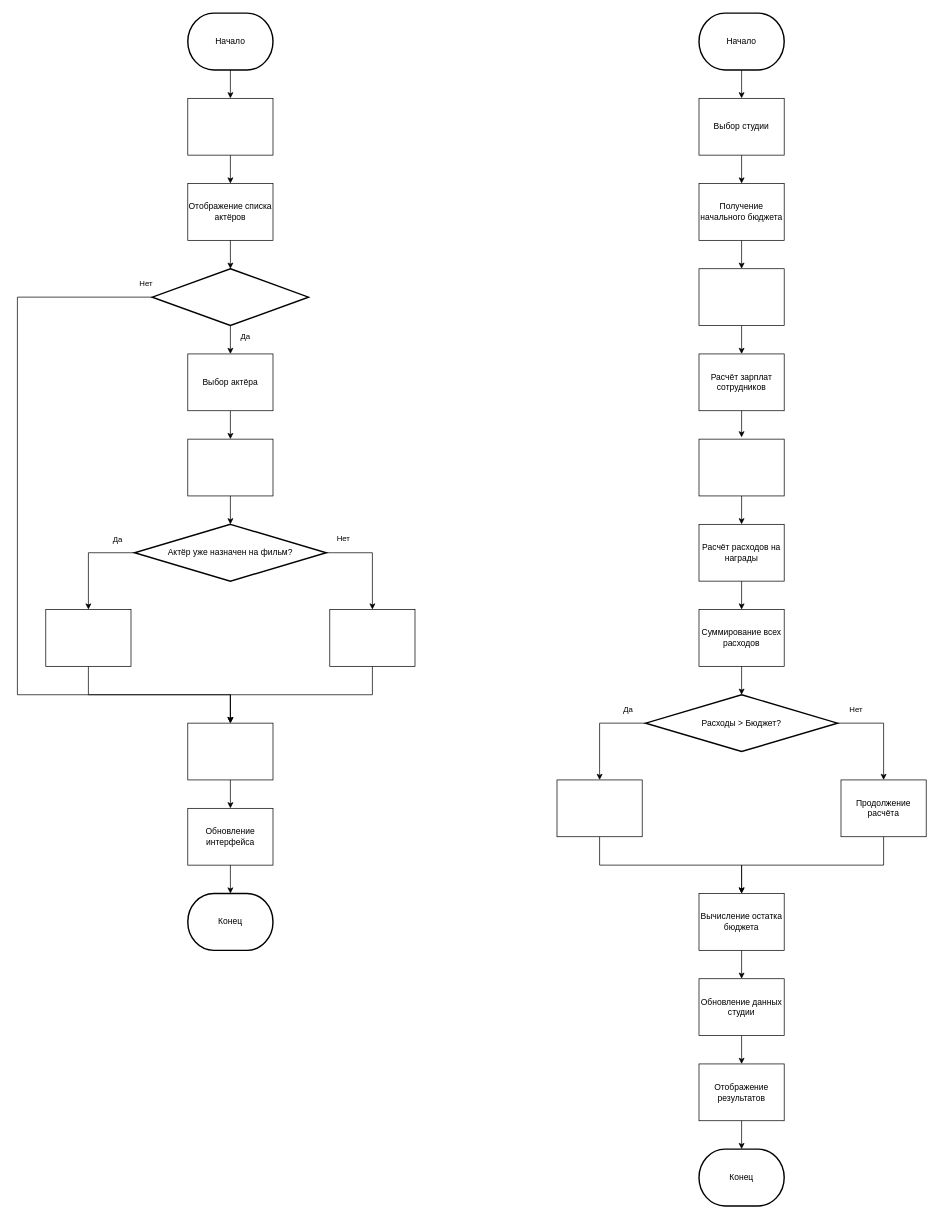
Image size: 939x1218. Some labels were removed from this diagram. The box of each missing label's shape, as (x1, y1, x2, y2) in pixels:
Ввод роли: (187, 438, 273, 496)
Выбор фильма: (187, 98, 273, 155)
Вывод предупреждения\nо дефиците бюджета: (556, 779, 642, 837)
Добавление назначения актёра к фильму: (329, 609, 415, 666)
Есть выбранные актёры?: (151, 268, 309, 326)
Расчёт бюджета подразделений: (698, 268, 784, 326)
Расчёт бюджета фильмов: (698, 438, 784, 496)
Сообщение об ошибке: (45, 609, 131, 666)
Сохранение изменений: (187, 722, 273, 780)
